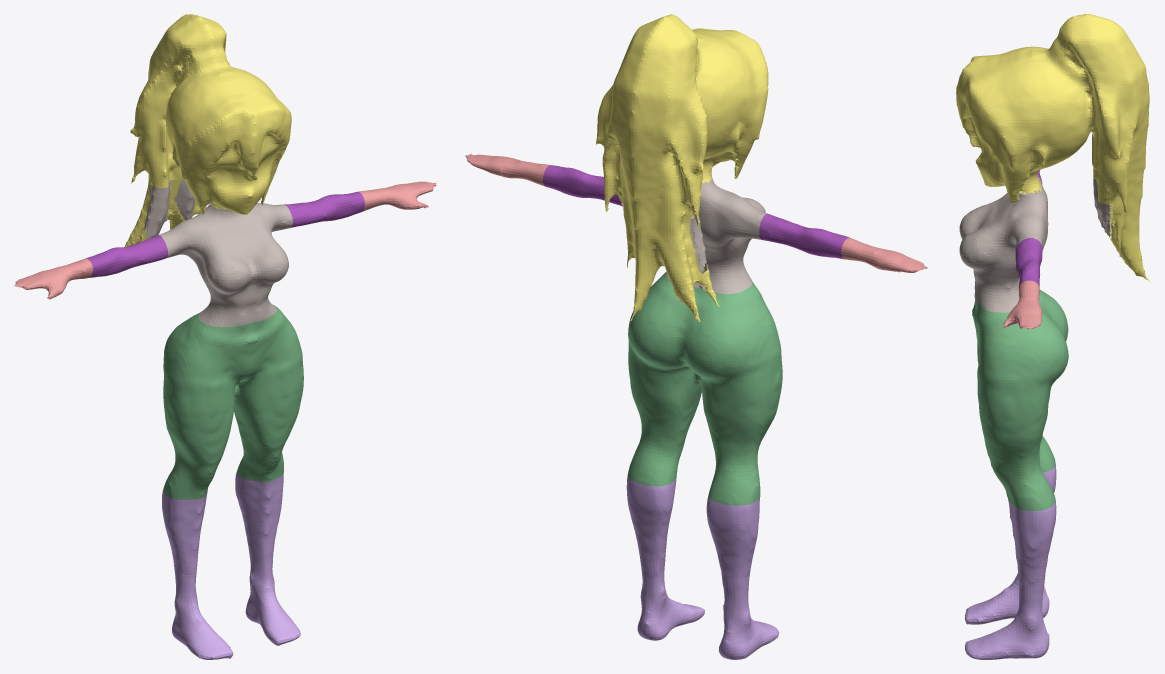
The model's file is jace0_godmode_perfect_ponytail.glb.
3 renders of one model, left to right at view 1: azimuth 30°, elevation 25°; view 2: azimuth 150°, elevation 25°; view 3: azimuth 270°, elevation 25°, orthographic. The views are drawn at different scales.
Parts seen in each view (by area): view 1: Part_HEAD_HAIR, Part_TORSO, Part_LEG_UPPER_L, Part_LEG_UPPER_R, Part_LEG_LOWER_R, Part_LEG_LOWER_L, Part_ARM_UPPER_L, Part_ARM_UPPER_R, Part_ARM_LOWER_L, Part_ARM_LOWER_R; view 2: Part_HEAD_HAIR, Part_LEG_UPPER_L, Part_LEG_UPPER_R, Part_LEG_LOWER_L, Part_LEG_LOWER_R, Part_TORSO, Part_ARM_UPPER_L, Part_ARM_UPPER_R, Part_ARM_LOWER_L, Part_ARM_LOWER_R; view 3: Part_HEAD_HAIR, Part_LEG_UPPER_R, Part_TORSO, Part_LEG_LOWER_R, Part_LEG_LOWER_L, Part_ARM_LOWER_R, Part_LEG_UPPER_L, Part_ARM_UPPER_R.
Part boxes in pixels (bbox=[...]): Part_HEAD_HAIR: bbox=[124, 14, 291, 247]; Part_TORSO: bbox=[143, 179, 292, 327]; Part_LEG_UPPER_L: bbox=[163, 313, 251, 499]; Part_LEG_UPPER_R: bbox=[234, 305, 303, 482]; Part_LEG_LOWER_R: bbox=[235, 472, 300, 645]; Part_LEG_LOWER_L: bbox=[162, 491, 233, 659]; Part_ARM_UPPER_L: bbox=[86, 235, 167, 277]; Part_ARM_UPPER_R: bbox=[284, 191, 364, 227]; Part_ARM_LOWER_L: bbox=[14, 258, 92, 299]; Part_ARM_LOWER_R: bbox=[358, 181, 436, 211]; Part_HEAD_HAIR: bbox=[596, 14, 768, 321]; Part_LEG_UPPER_L: bbox=[681, 281, 782, 505]; Part_LEG_UPPER_R: bbox=[628, 272, 701, 486]; Part_LEG_LOWER_L: bbox=[706, 496, 779, 659]; Part_LEG_LOWER_R: bbox=[626, 475, 704, 640]; Part_TORSO: bbox=[621, 178, 767, 294]; Part_ARM_UPPER_L: bbox=[759, 214, 849, 259]; Part_ARM_UPPER_R: bbox=[543, 165, 622, 206]; Part_ARM_LOWER_L: bbox=[841, 237, 927, 272]; Part_ARM_LOWER_R: bbox=[465, 153, 549, 186]; Part_HEAD_HAIR: bbox=[956, 14, 1150, 282]; Part_LEG_UPPER_R: bbox=[972, 300, 1068, 510]; Part_TORSO: bbox=[959, 177, 1111, 312]; Part_LEG_LOWER_R: bbox=[965, 500, 1056, 659]; Part_LEG_LOWER_L: bbox=[965, 464, 1056, 624]; Part_ARM_LOWER_R: bbox=[1001, 280, 1042, 329]; Part_LEG_UPPER_L: bbox=[972, 289, 1068, 472]; Part_ARM_UPPER_R: bbox=[1015, 238, 1042, 287].
Bounding box in the file's own units: 1.46 × 1.96 × 0.5555.
